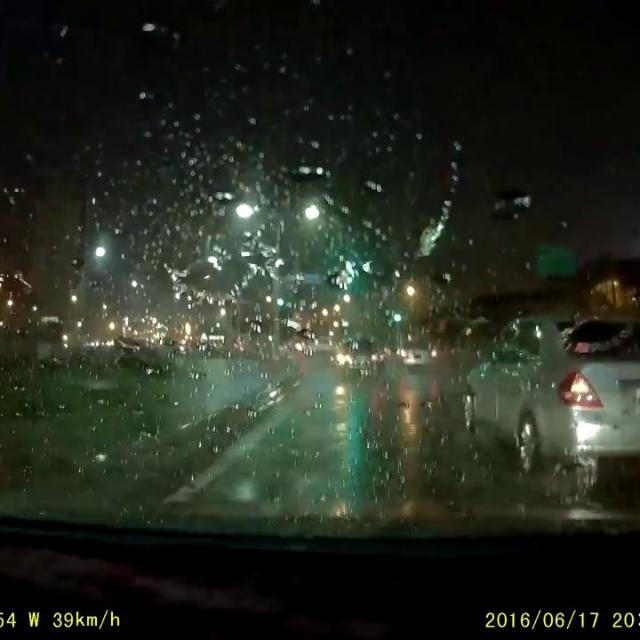Car: (459, 311, 639, 479), (332, 334, 384, 376), (395, 338, 432, 367)
